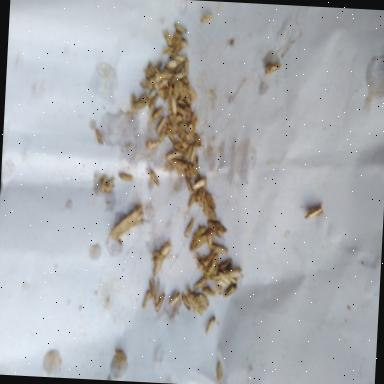pbw: (304, 203, 323, 220), (133, 94, 147, 115), (192, 294, 210, 310), (191, 296, 204, 318), (146, 170, 161, 188), (185, 111, 197, 132), (196, 183, 206, 207), (193, 274, 207, 291), (170, 158, 186, 172), (264, 60, 280, 74), (140, 290, 150, 312), (210, 244, 230, 255), (204, 192, 216, 210), (224, 283, 238, 298), (183, 219, 193, 239), (154, 292, 164, 312), (203, 318, 214, 336), (192, 176, 206, 190), (204, 205, 217, 220), (167, 290, 179, 306), (218, 258, 230, 274), (224, 264, 240, 276), (186, 85, 197, 102), (195, 255, 206, 272), (147, 93, 158, 110), (193, 226, 206, 240), (172, 21, 186, 34), (216, 271, 231, 283), (156, 116, 166, 134), (183, 143, 192, 163), (152, 71, 167, 83), (144, 138, 160, 149), (180, 296, 191, 312), (152, 106, 164, 120), (205, 231, 213, 252), (154, 277, 160, 305), (172, 38, 186, 50), (189, 144, 198, 162), (142, 80, 160, 89), (148, 280, 157, 298), (162, 30, 172, 46), (94, 129, 104, 145), (216, 219, 226, 235), (206, 220, 219, 232), (201, 286, 214, 298), (114, 350, 127, 362), (166, 150, 181, 160), (106, 177, 116, 192), (184, 164, 194, 179), (170, 96, 178, 114), (156, 78, 168, 90), (199, 14, 212, 25), (172, 72, 186, 82), (216, 360, 222, 383), (202, 254, 213, 266), (177, 138, 188, 150), (173, 81, 183, 94), (184, 179, 194, 192), (188, 192, 196, 208), (182, 56, 189, 74), (174, 105, 188, 114), (192, 134, 201, 148), (158, 127, 166, 142), (116, 173, 131, 181), (170, 114, 182, 124), (209, 256, 217, 270), (177, 122, 186, 134), (100, 174, 106, 192), (168, 132, 176, 145), (187, 123, 194, 137), (184, 94, 192, 106), (174, 54, 186, 61), (217, 281, 222, 296), (178, 89, 184, 101), (168, 58, 174, 68), (168, 86, 172, 98)
